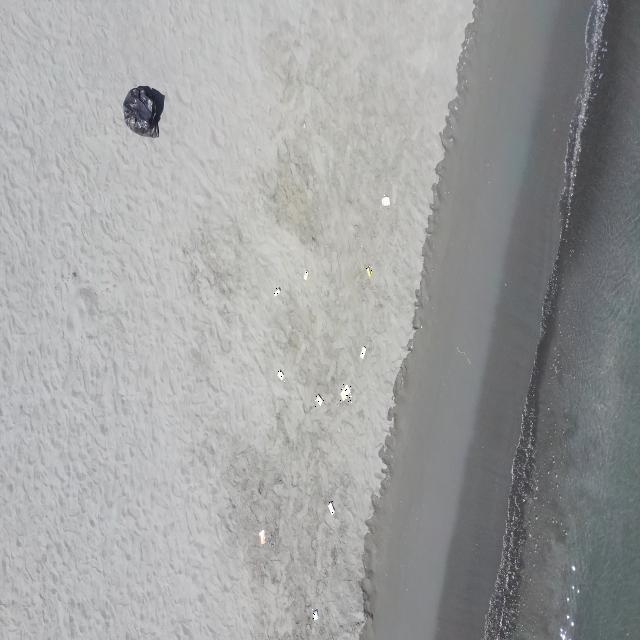Garbage: (124, 85, 163, 136), (340, 384, 350, 400), (380, 195, 390, 206), (315, 393, 323, 406), (364, 264, 372, 276), (327, 500, 333, 513), (276, 369, 283, 380), (312, 608, 318, 620), (360, 346, 366, 357), (259, 528, 263, 544), (272, 287, 280, 295), (304, 270, 307, 280), (572, 564, 575, 571)
